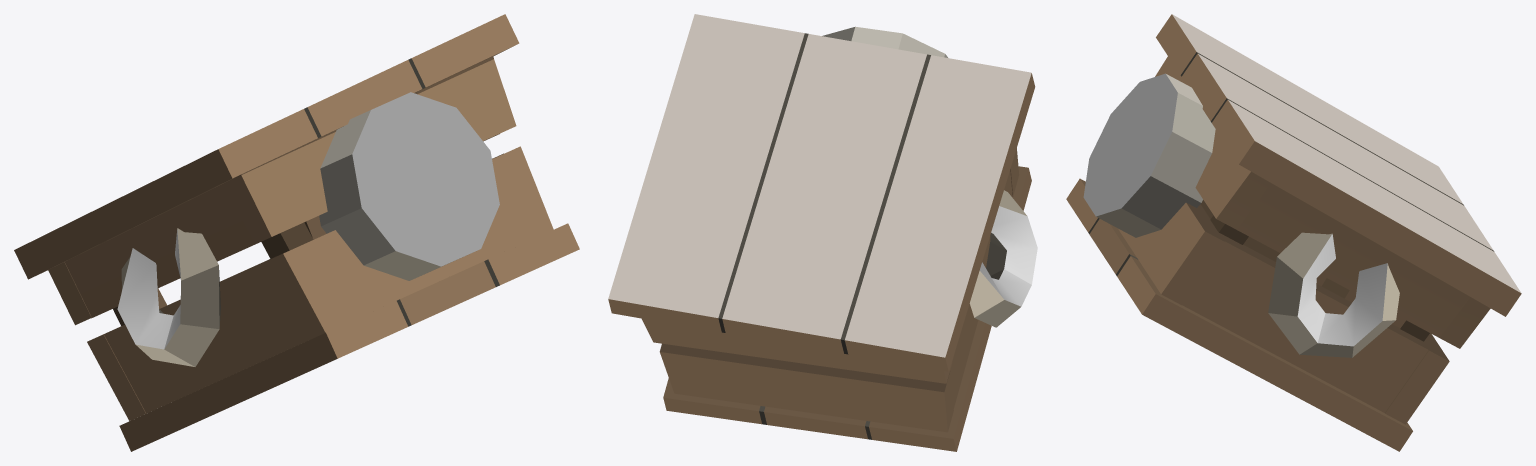
Rendered from PartyGameCrateTemplate@partyGamesBoxRookieCombinedMesh.fbx.
3 renders of one model, left to right at view 1: azimuth 30°, elevation 25°; view 2: azimuth 150°, elevation 25°; view 3: azimuth 270°, elevation 25°, orthographic. The views are drawn at different scales.
Visible parts, largest first — view 1: PartyGameCrateTemplate:partyGamesBoxRookieCombinedMesh; view 2: PartyGameCrateTemplate:partyGamesBoxRookieCombinedMesh; view 3: PartyGameCrateTemplate:partyGamesBoxRookieCombinedMesh.
Boxes of the visible parts, x1,y1,x2,y2 form: PartyGameCrateTemplate:partyGamesBoxRookieCombinedMesh: (14, 14, 579, 451); PartyGameCrateTemplate:partyGamesBoxRookieCombinedMesh: (608, 14, 1037, 451); PartyGameCrateTemplate:partyGamesBoxRookieCombinedMesh: (1066, 14, 1521, 451).
Bounding box in the file's own units: 55.4 × 50.46 × 61.29.
